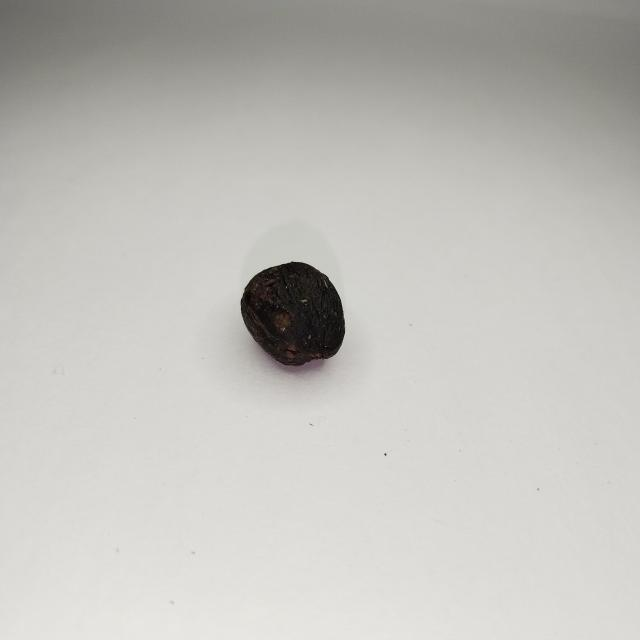Danado: (245, 262, 346, 367)
